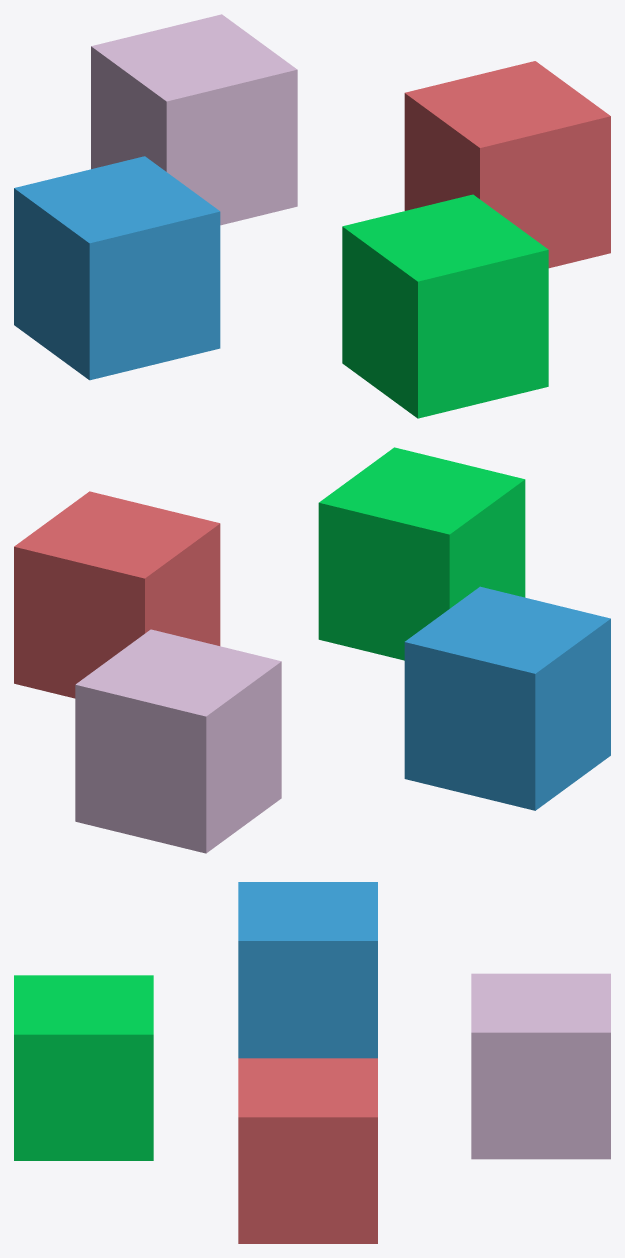
The picture shows the model from 3 angles, top to bottom: view 1: azimuth 30°, elevation 25°; view 2: azimuth 150°, elevation 25°; view 3: azimuth 270°, elevation 25°; orthographic projection. The views are drawn at different scales.
Visible parts, largest first — view 1: 立方体.001, Cube, 立方体.002, 立方体; view 2: 立方体.002, 立方体.001, Cube, 立方体; view 3: 立方体.002, Cube, 立方体, 立方体.001.
Part boxes in pixels (<box>): 立方体.001: <box>14,156,220,380</box>; Cube: <box>342,194,548,418</box>; 立方体.002: <box>91,14,297,225</box>; 立方体: <box>404,61,610,268</box>; 立方体.002: <box>75,629,281,853</box>; 立方体.001: <box>404,586,610,810</box>; Cube: <box>318,447,525,660</box>; 立方体: <box>14,491,220,698</box>; 立方体.002: <box>471,973,610,1159</box>; Cube: <box>14,975,153,1160</box>; 立方体: <box>238,1058,377,1243</box>; 立方体.001: <box>238,882,377,1058</box>.
Size of the model in its own units: 7.97 by 2 by 8.55.
